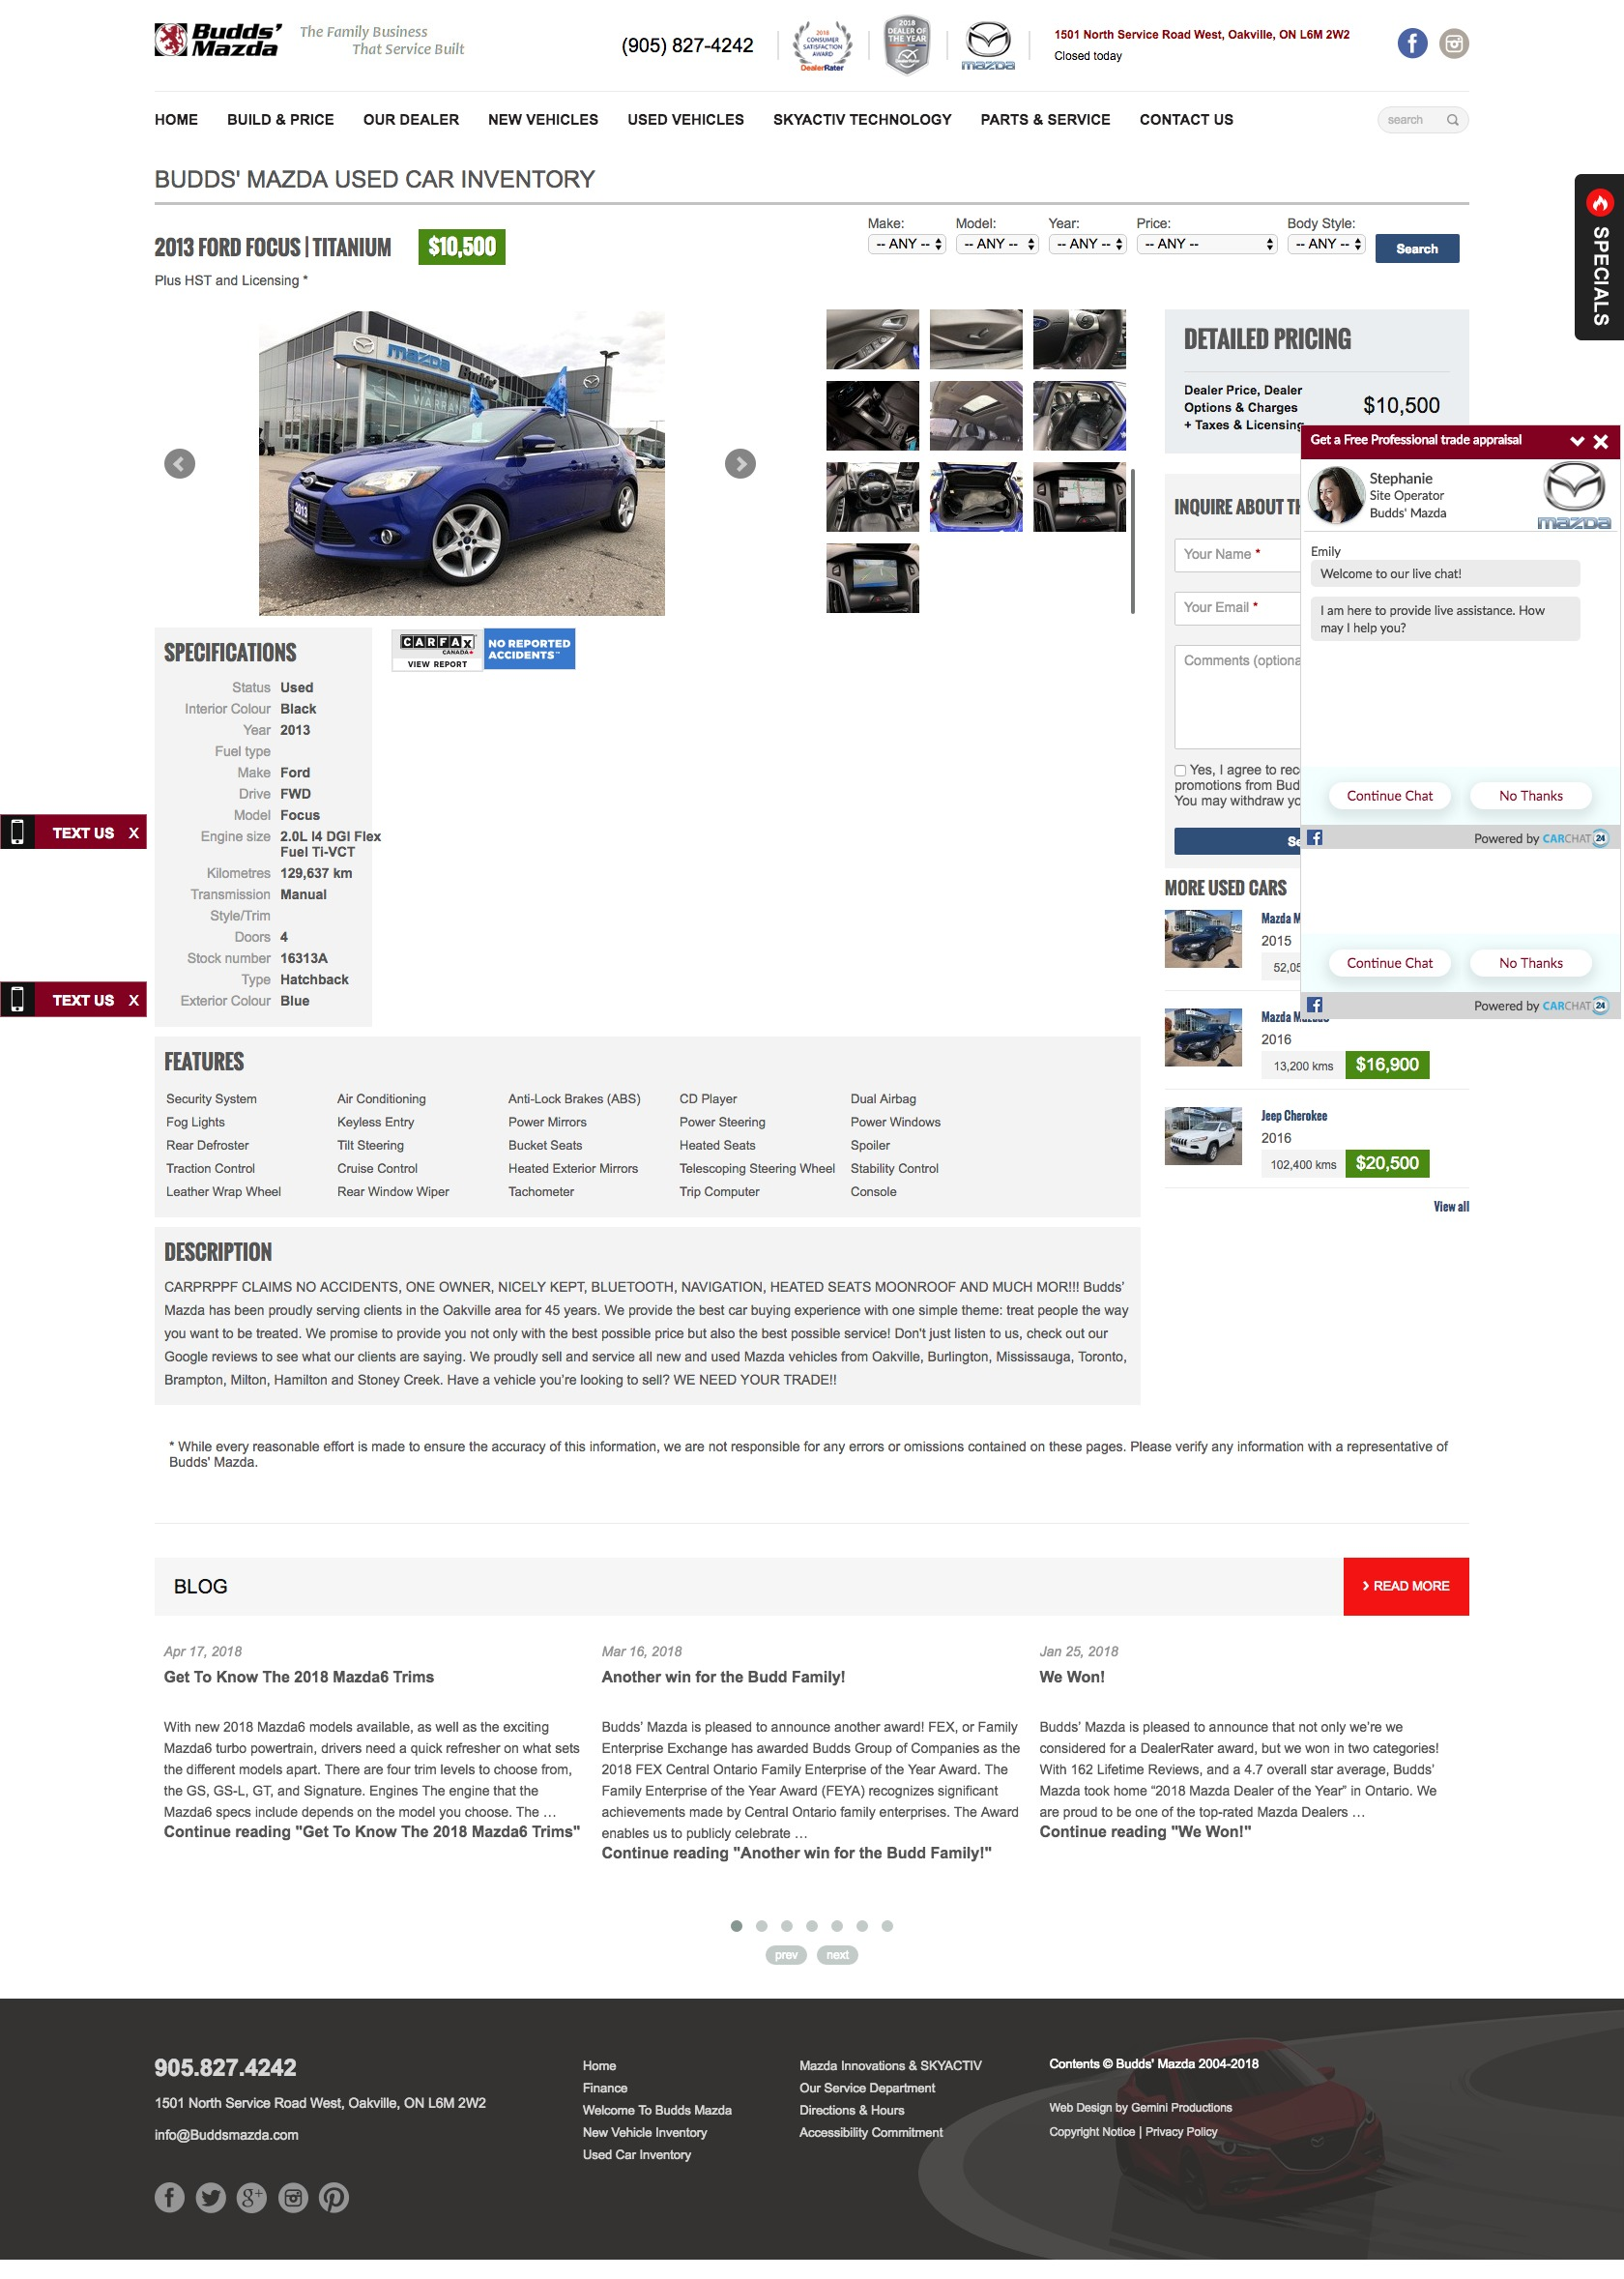car: (724, 446, 759, 483)
